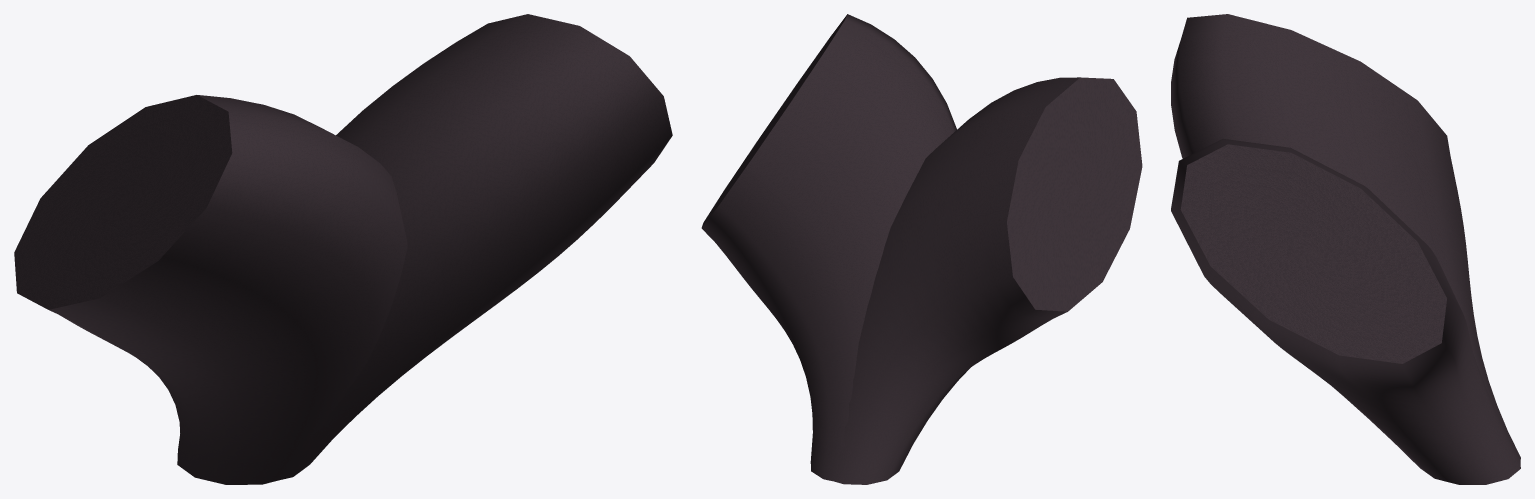
The model's file is facial_soul_patch_default.gltf.
The picture shows the model from 3 angles, left to right: view 1: azimuth 30°, elevation 25°; view 2: azimuth 150°, elevation 25°; view 3: azimuth 270°, elevation 25°; orthographic projection. The views are drawn at different scales.
Visible parts, largest first — view 1: Soul Patch default; view 2: Soul Patch default; view 3: Soul Patch default.
Part boxes in pixels (box(x1,y1,x2,y2)): Soul Patch default: box(14, 14, 672, 484); Soul Patch default: box(701, 14, 1142, 484); Soul Patch default: box(1171, 14, 1520, 484).
Bounding box in the file's own units: 0.0555 × 0.0475 × 0.0392.
1 material, 1 textured.
